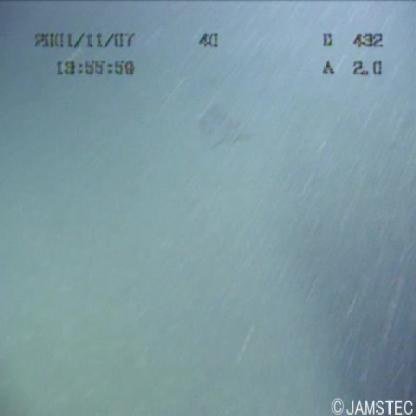Rác: (191, 90, 255, 158)
